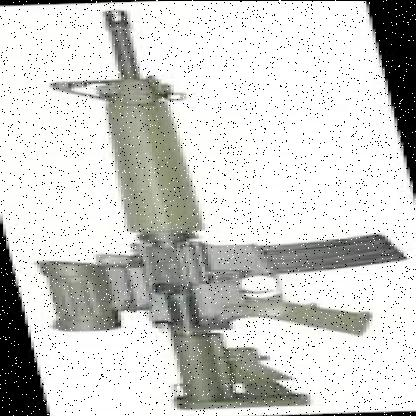rifle: (0, 0, 416, 413)
